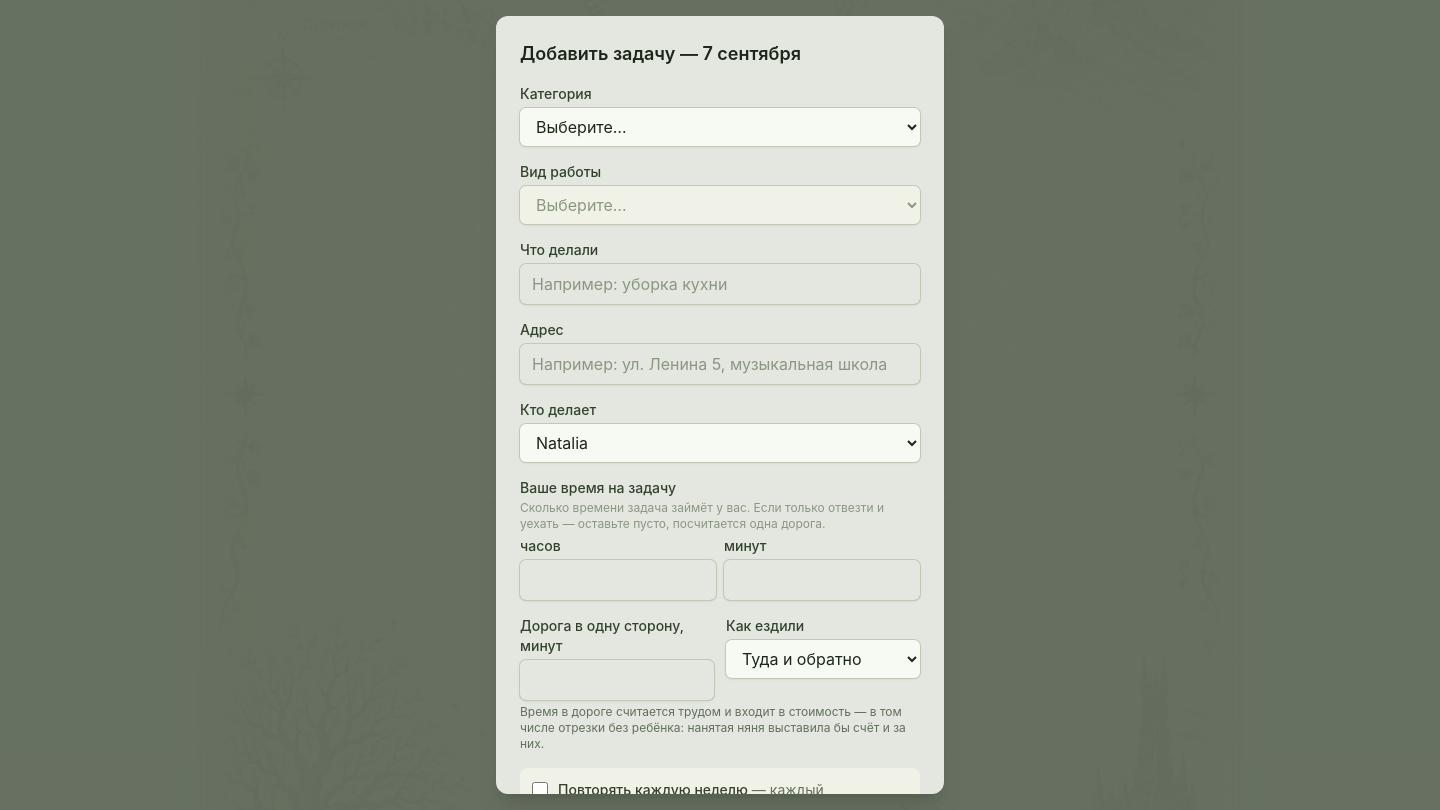
AddPlannedTaskDialog: повтор каждую неделю › совсем пустую задачу — ни времени, ни дороги — не сохраняет
Select "🧒 Ребёнок" in the dropdown labelled "Категория": (720, 127) [520,108,920,146]
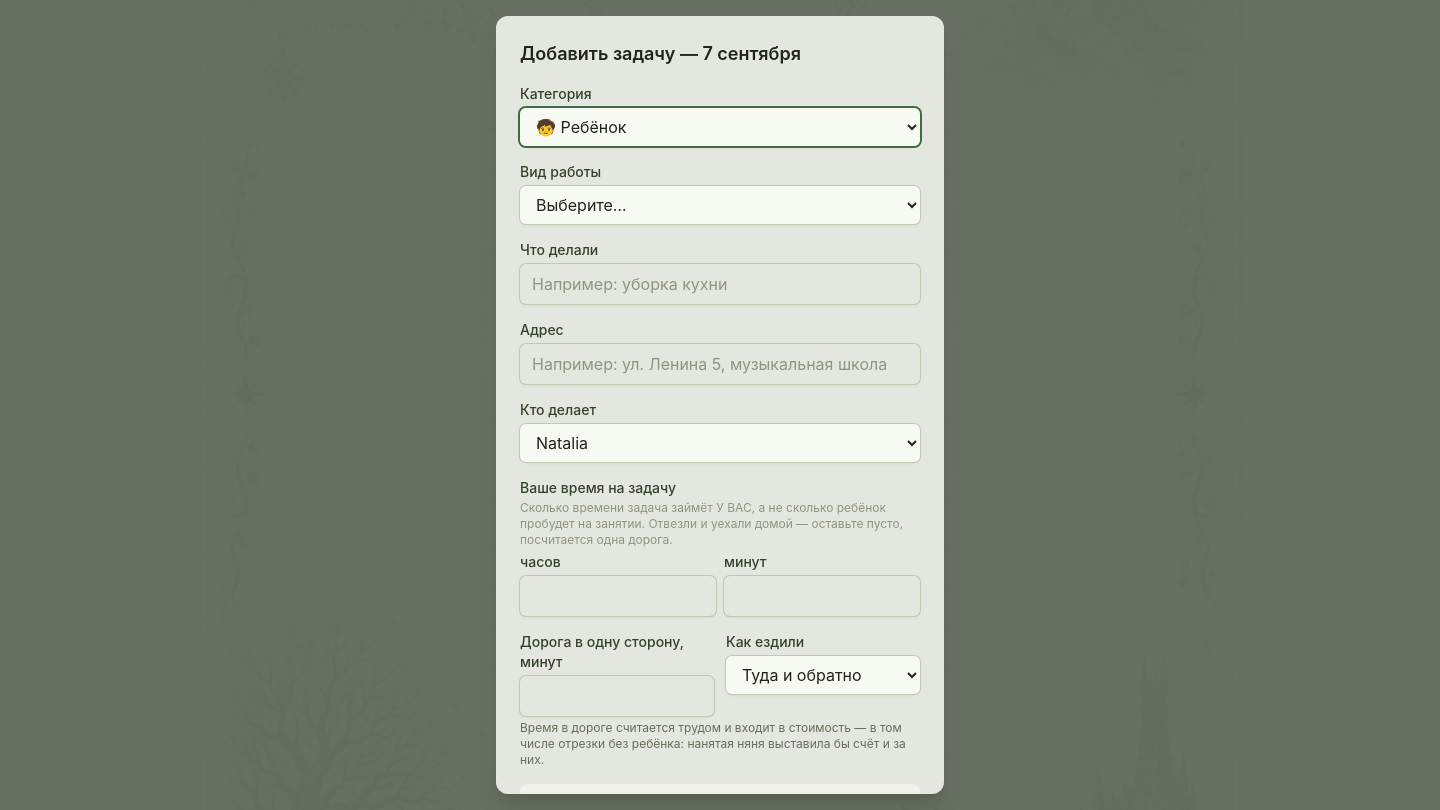
Select "Логистика (отвезти/забрать)" in the dropdown labelled "Вид работы": (720, 205) [520,186,920,224]
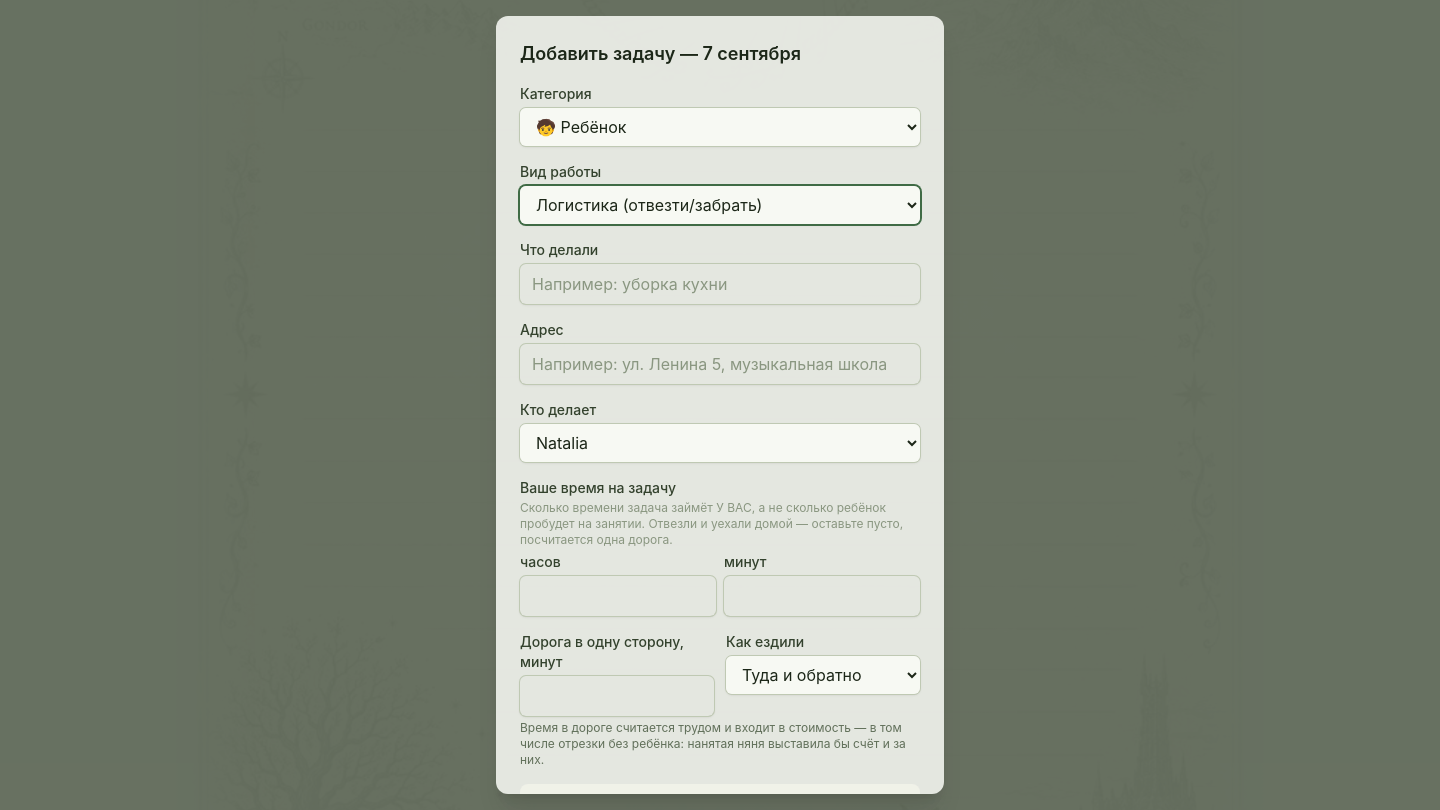
In the field labelled "Что делали": (720, 284) [520,264,920,304], type "Непонятно что"
(page scrolled)
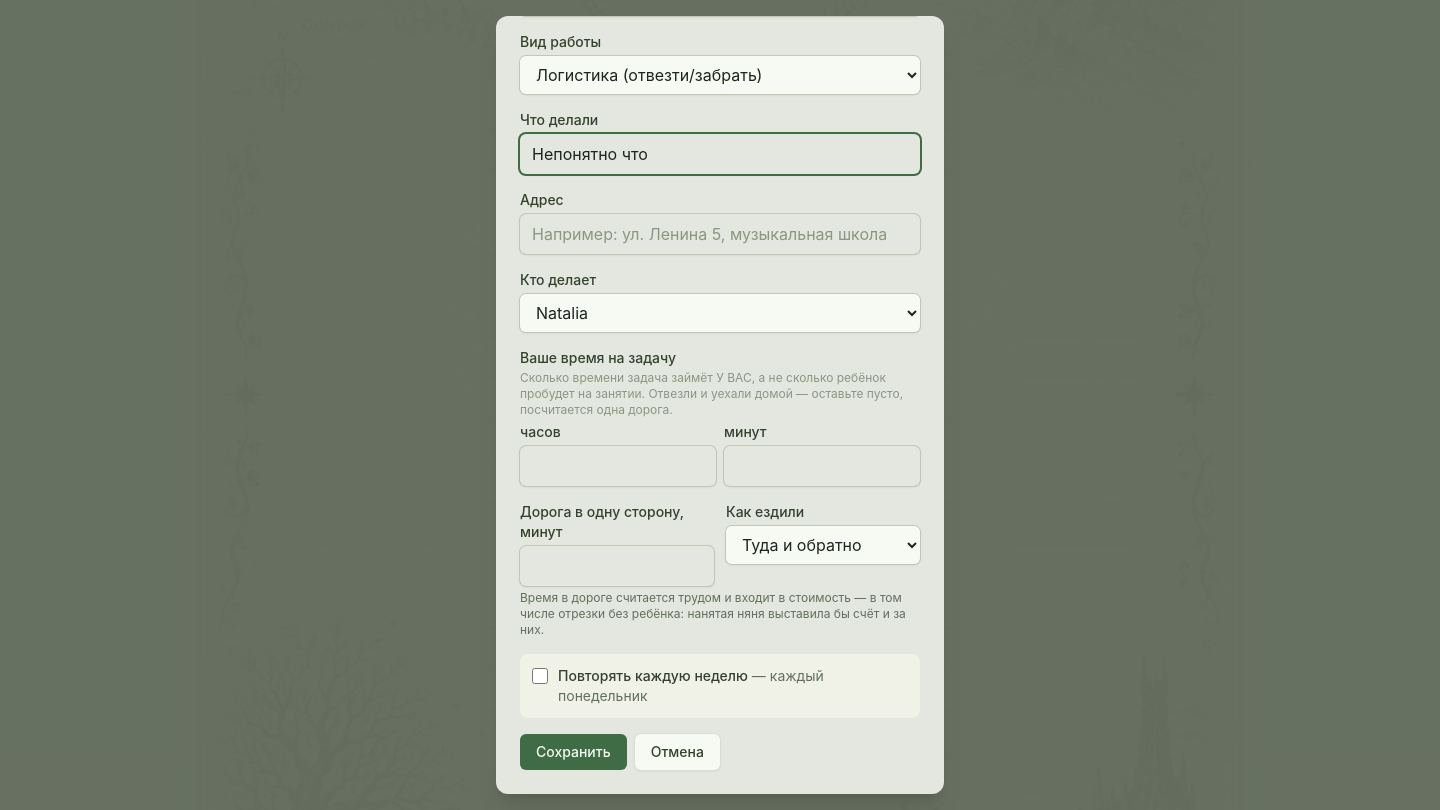
Click the button "Сохранить": (573, 752) [520,734,627,770]
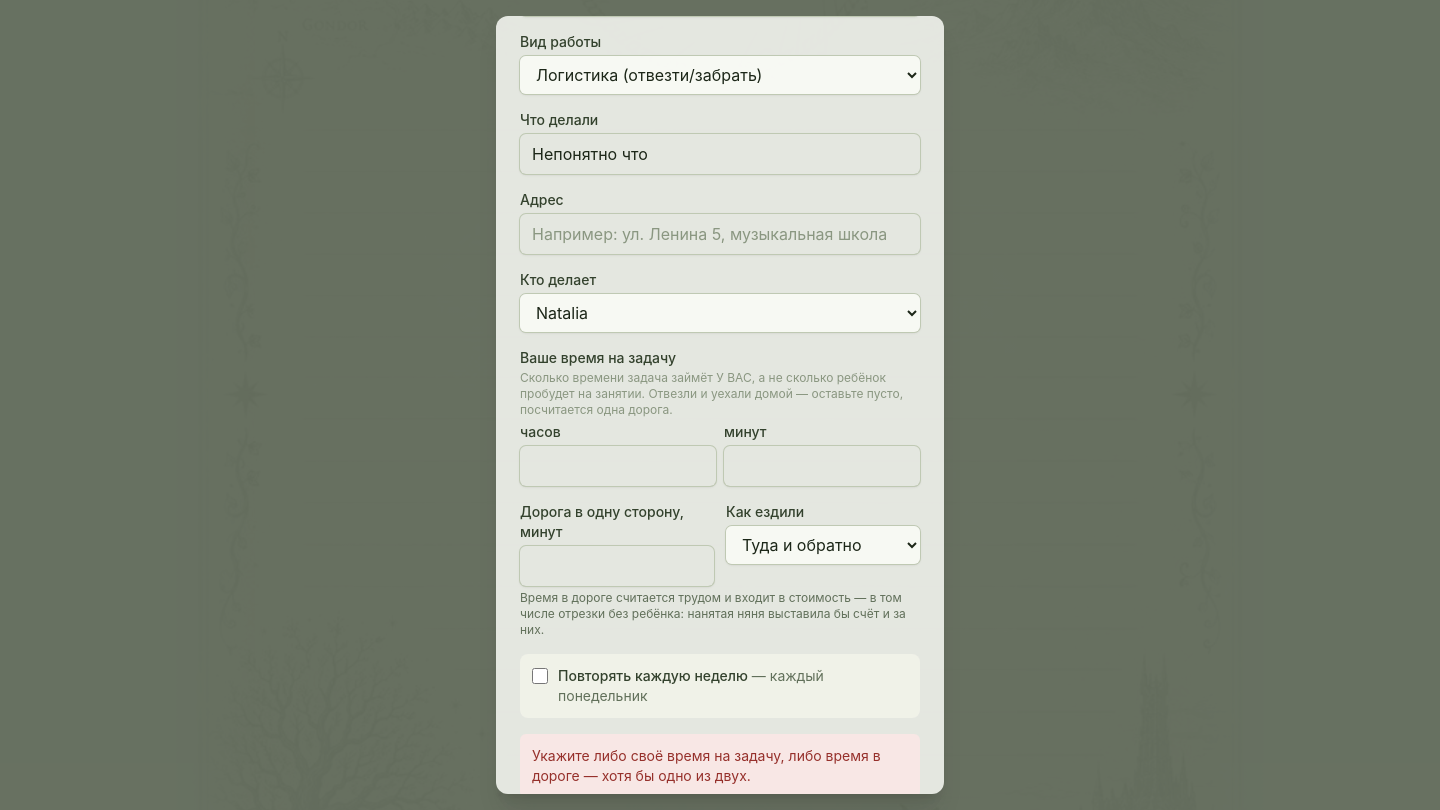
Check: the message shows "либо своё время на задачу, либо время в дороге", box [532,747,881,784]
